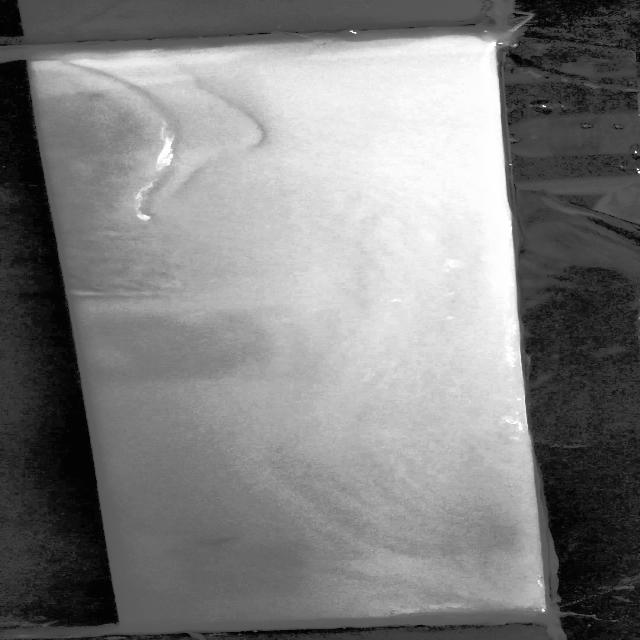shrimp: (197, 527, 255, 554)
